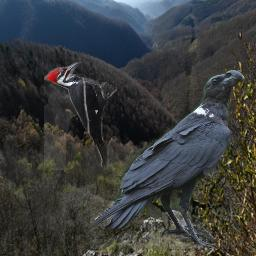Crow: (90, 67, 248, 249)
Woodpecker: (44, 62, 117, 170)
